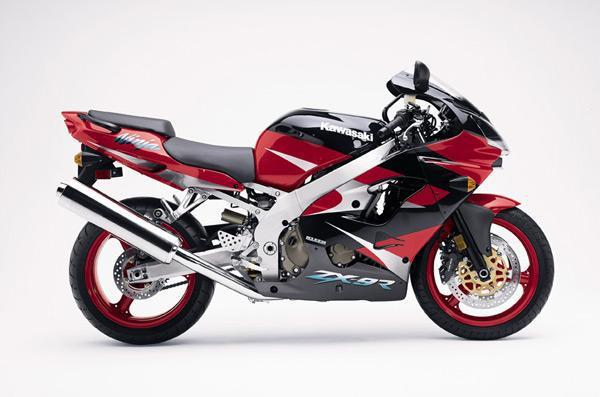motorcycle: (37, 52, 568, 350)
